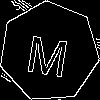M: (24, 26, 72, 78)
